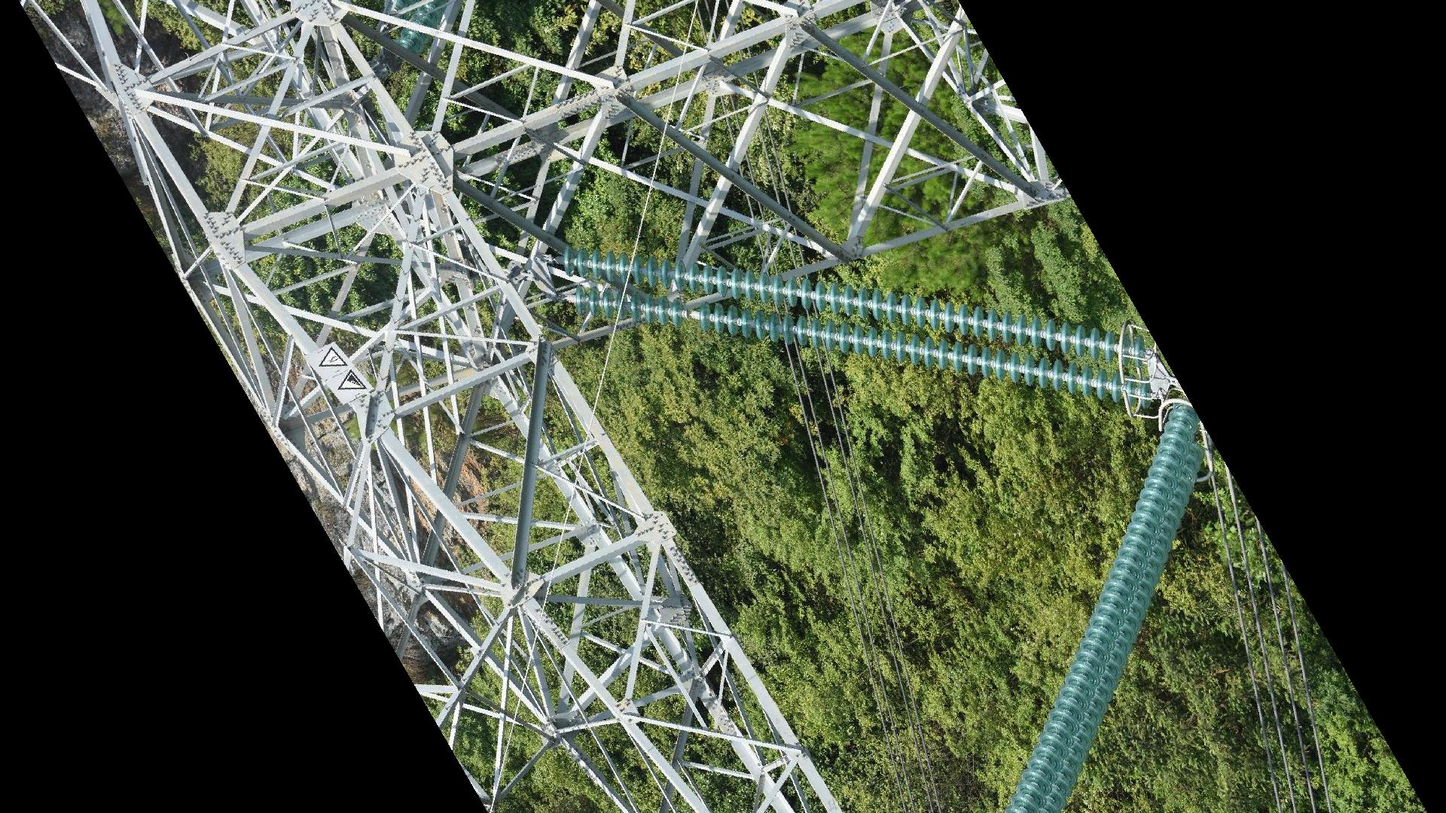insulator: (554, 244, 1157, 410), (1000, 399, 1208, 813)
insulator_stringdrop: (668, 294, 713, 336)
